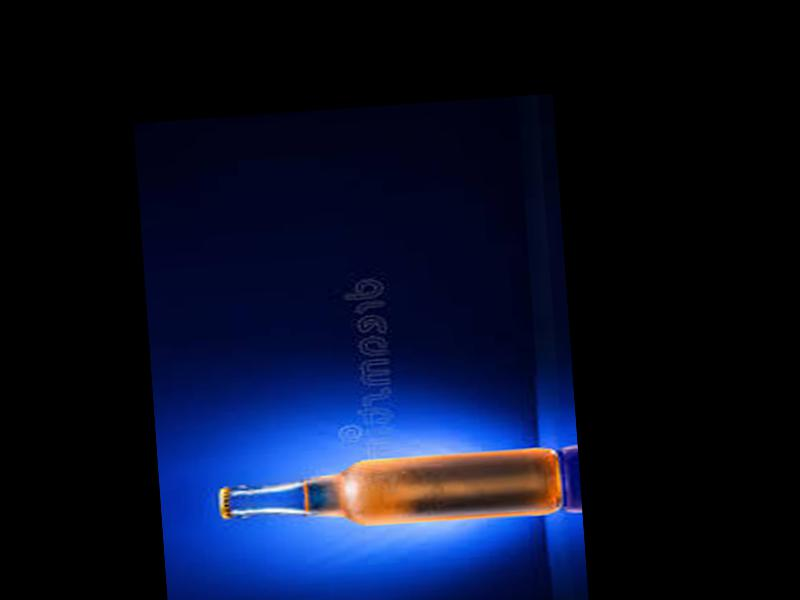Beer: (216, 444, 562, 540)
